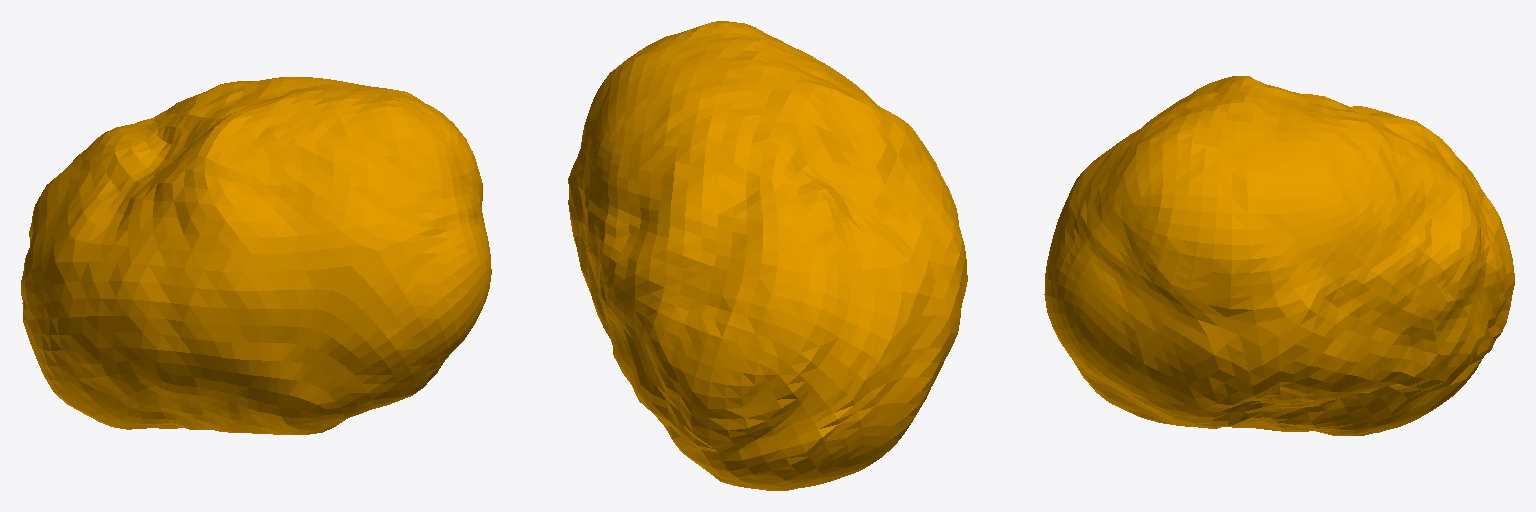
The robot description file, URDF, robot "rock":
<?xml version="1.0" ?>
<robot name="rock">
  <link name="rock">
    <inertial>
      <mass value="0.283"/>
      <origin rpy="0 0 0" xyz="0 0 0"/>
      <inertia ixx="0.000283" ixy="0" ixz="0" iyy="0.000283" iyz="0" izz="0.000283"/>
    </inertial>
    <collision name="rock_collision">
      <origin rpy="0 0 0" xyz="0 0 0"/>
      <geometry>
        <mesh filename="package://rocks/visual/170.dae" scale="1 1 1"/>
      </geometry>
    </collision>
    <visual name="rock_visual">
      <origin rpy="0 0 0" xyz="0 0 0"/>
      <geometry>
        <mesh filename="package://rocks/visual/170.dae" scale="1 1 1"/>
      </geometry>
    </visual>
  </link>
</robot>

--- Facts derived from the render (not from the file) ---
The picture shows the robot from 3 angles, left to right: view 1: azimuth 30°, elevation 25°; view 2: azimuth 150°, elevation 25°; view 3: azimuth 270°, elevation 25°; orthographic projection.
Model rock with 1 links and 0 joints (none), rooted at rock, posed all joints at 0.
Links seen in each view (by area): view 1: rock; view 2: rock; view 3: rock.
Boxes of the visible links, box(x1,y1,x2,y2) form: rock: box(21, 77, 491, 434); rock: box(568, 21, 967, 490); rock: box(1044, 76, 1514, 435).
Size in the robot's own frame: 0.0824 by 0.0876 by 0.0732 metres.
Meshes: 1 distinct files referenced, 1 mesh visuals loaded (1 Collada DAE).